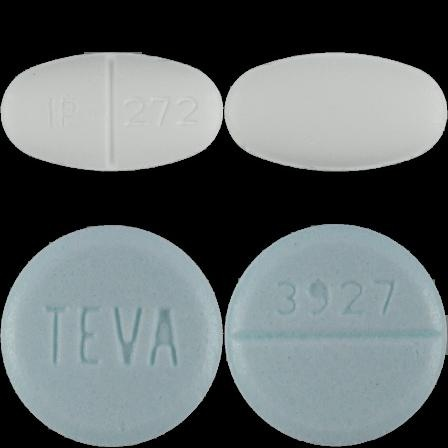67296-0227: (0, 0, 224, 224)
